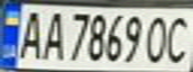6: (103, 11, 127, 63)
7: (63, 9, 90, 62)
8: (84, 10, 109, 62)
9: (121, 11, 148, 63)
A: (15, 7, 48, 61), (39, 7, 69, 61)
C: (163, 11, 193, 65)
O: (142, 11, 172, 64)
